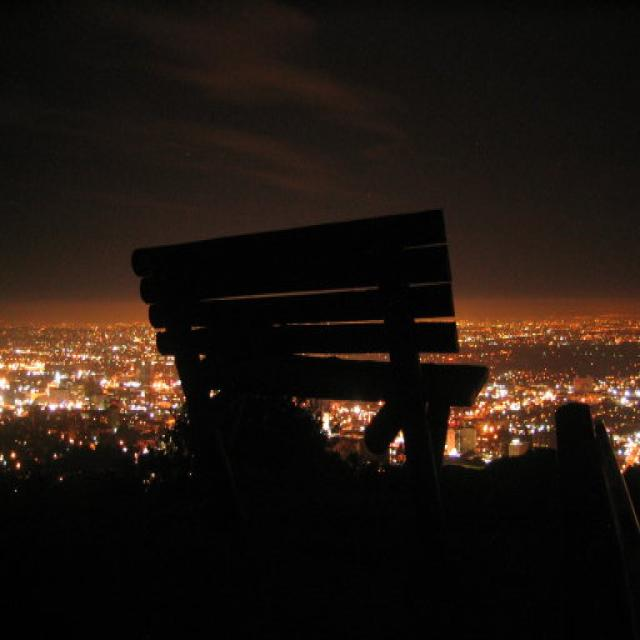chair: (120, 189, 501, 543)
